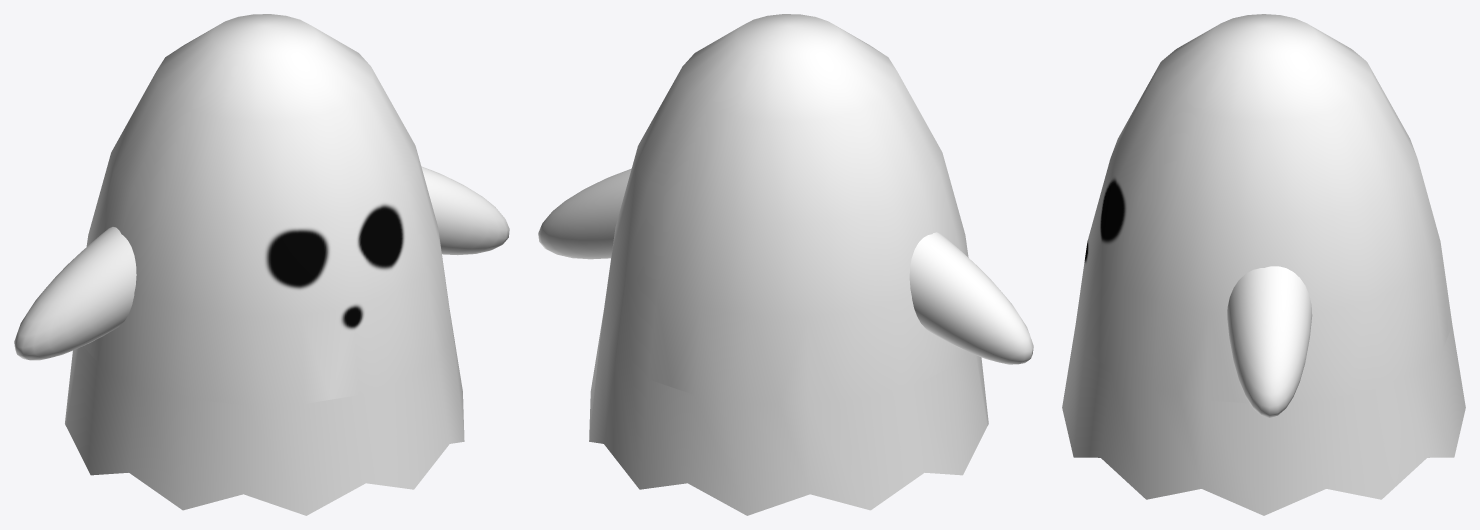
File: GHOST.glb
3 views of the same model, side by side, from view 1: azimuth 30°, elevation 25°; view 2: azimuth 150°, elevation 25°; view 3: azimuth 270°, elevation 25° (orthographic).
Parts seen in each view (by area): view 1: Ghost; view 2: Ghost; view 3: Ghost.
Part boxes in pixels (<box>): Ghost: <box>14,14,509,515</box>; Ghost: <box>538,14,1033,515</box>; Ghost: <box>1062,14,1465,515</box>.
Size of the model in its own units: 18 by 14.23 by 12.85.
Materials: 1 (1 with a texture image).
